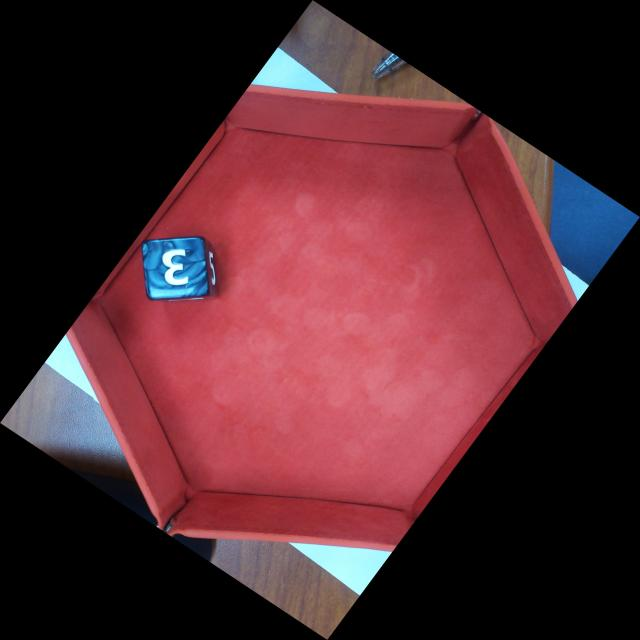dice: (145, 234, 213, 304)
